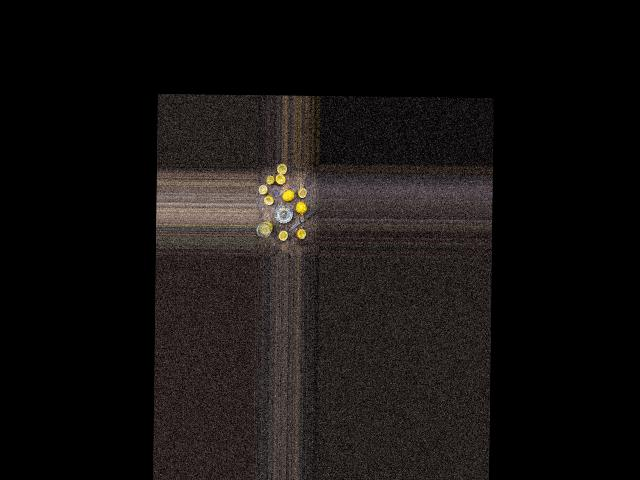lemon: (294, 197, 306, 214)
